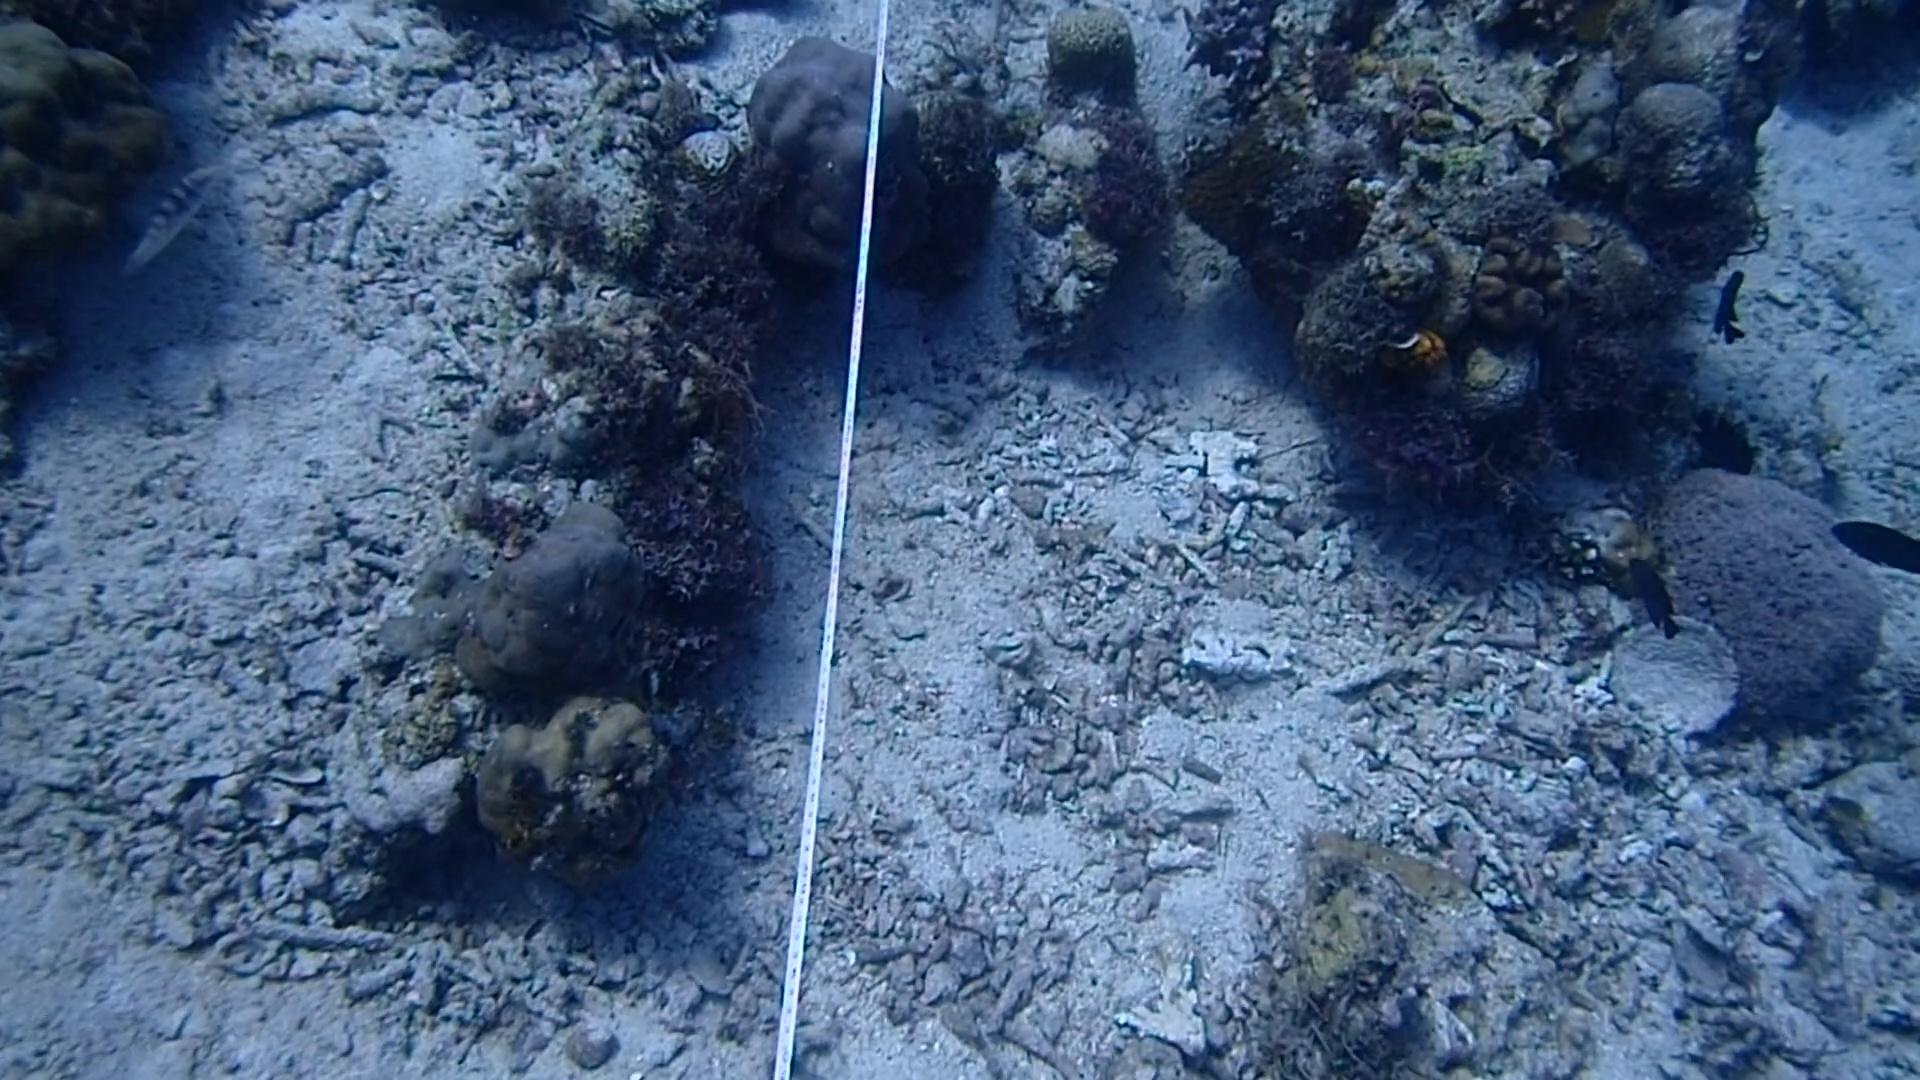Dark Fish: (1600, 545, 1708, 641), (1673, 396, 1774, 479), (1828, 500, 1920, 585), (1695, 257, 1760, 349)
Light Fish w Back Stripes: (99, 148, 237, 286)
